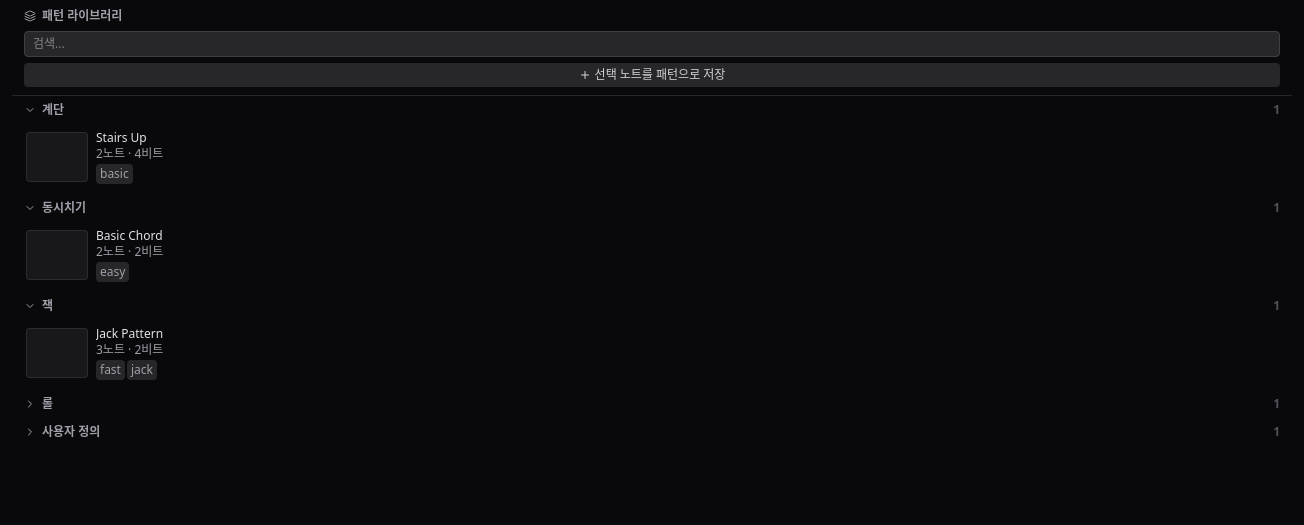
Test: PatternLibraryPanel › expands a collapsed category when clicked
Expected: the text "Roll Pattern" is not shown
Click the button "롤 1" at x=30, y=404, box [12,390,1292,418]
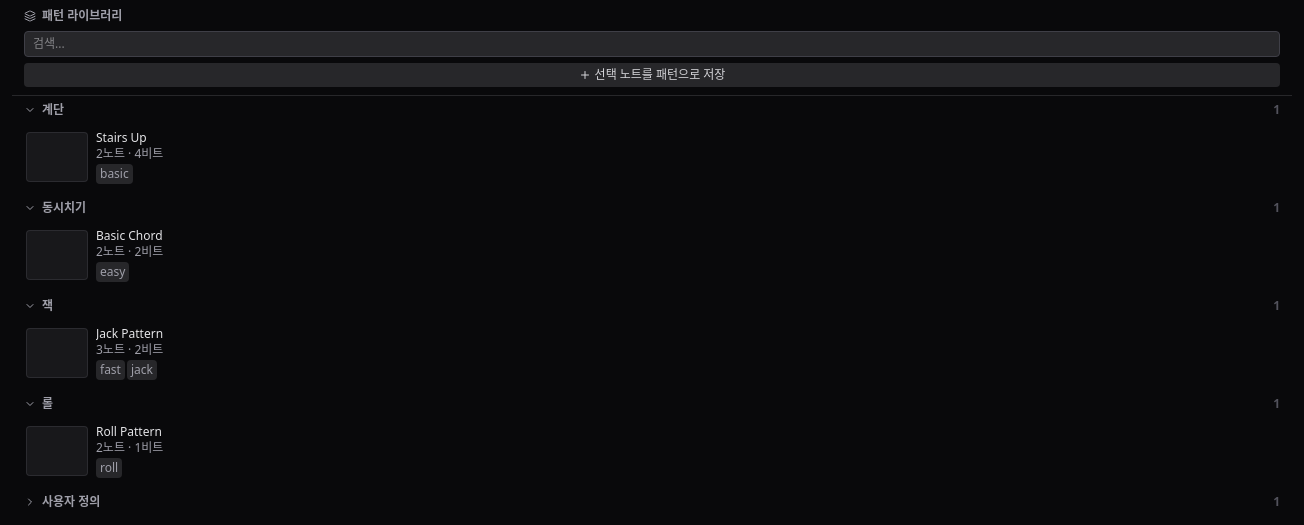
Result: the text "Roll Pattern" is shown at [96,423,162,440]
